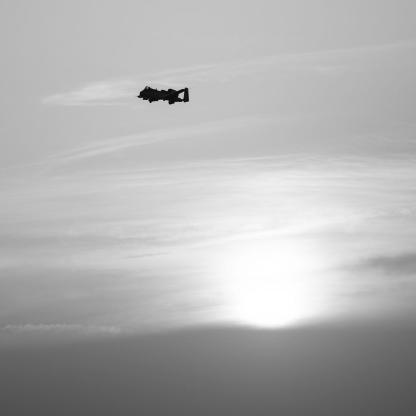A10: (136, 87, 190, 106)
